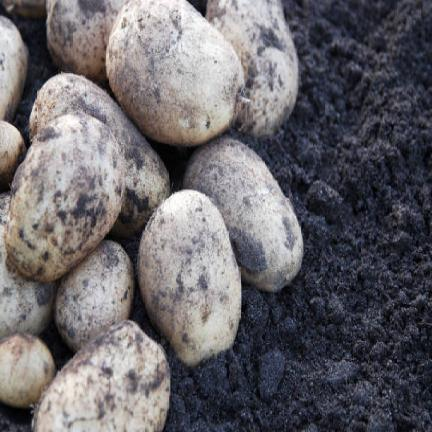potato: (30, 74, 169, 236), (6, 113, 124, 281), (107, 0, 243, 145), (184, 139, 302, 291), (138, 191, 240, 365), (33, 321, 169, 431), (206, 0, 298, 136), (54, 240, 133, 350), (0, 194, 55, 338), (47, 0, 127, 80), (0, 334, 54, 407), (0, 16, 28, 120), (0, 120, 25, 190), (1, 0, 45, 17)
